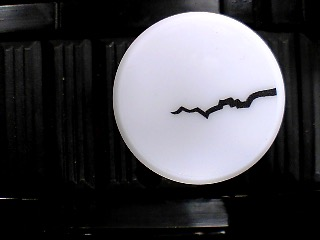CRACK: (112, 11, 286, 186)
